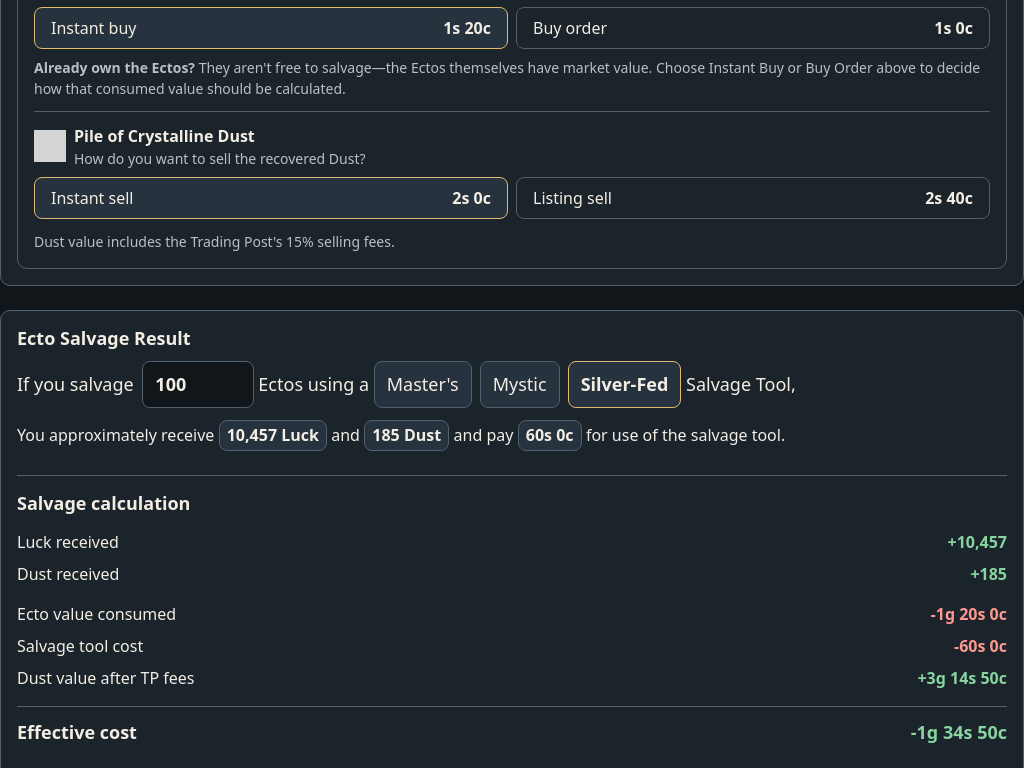
Test: EctoSalvageScreen › charges the selected exact tool in coin rather than treating a method as one cost
(page scrolled)
Expected: the element with class "result-details" shows "60s 0c", [526,424,574,446]
Expected: the element showing "Effective cost -1g 34s 50c" is shown, [17,706,1007,746]
Click the button with class "tool-choice__button" showing "Mystic": (520, 385) [480,361,560,408]
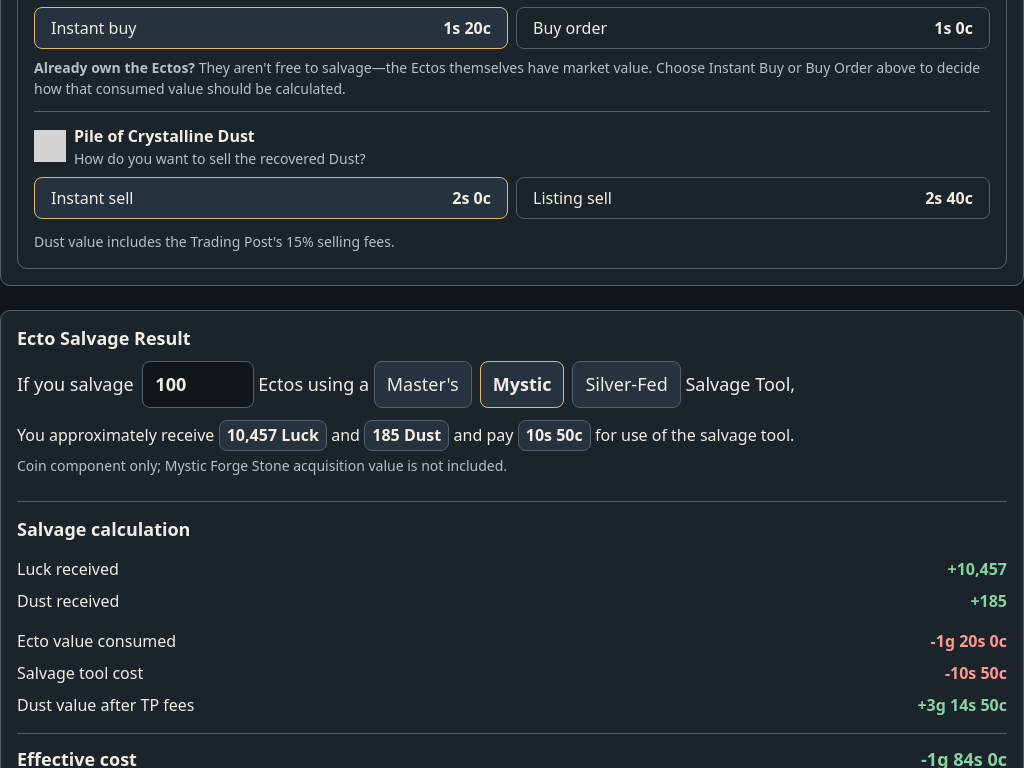
Expected: the element with class "result-details" shows "10s 50c", [526,424,583,446]
Expected: the text with class "tool-cost-note" shows "Mystic Forge Stone", [17,456,507,475]
